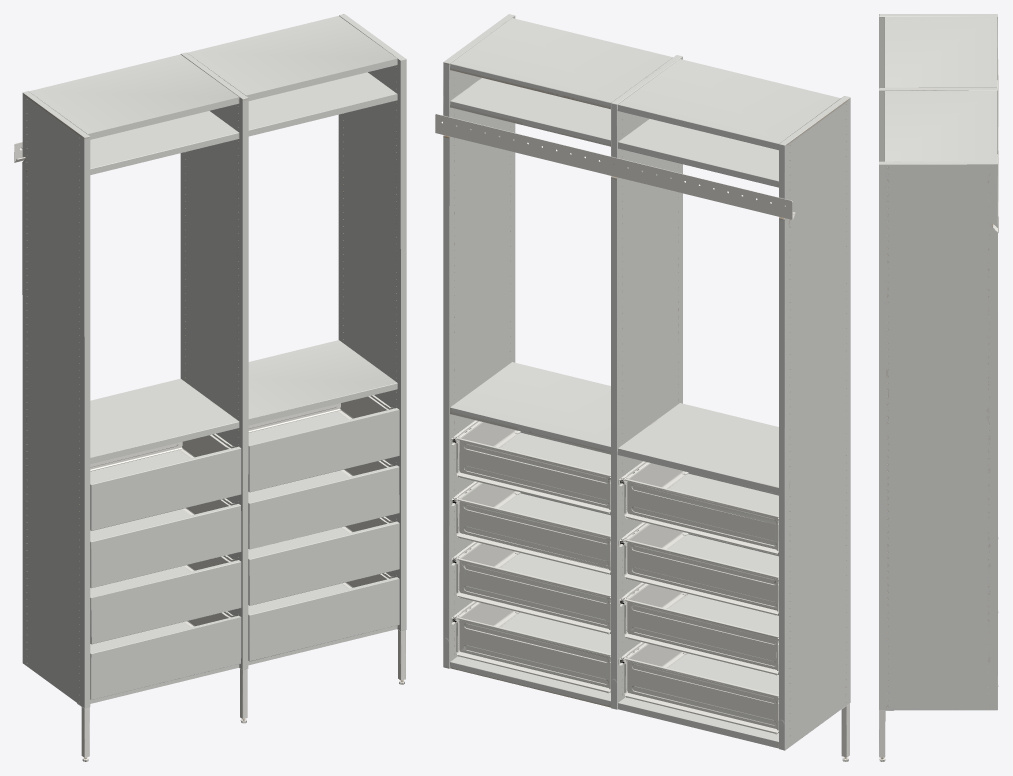
File: wardrobe-4.glb
3 views of the same model, side by side, from view 1: azimuth 30°, elevation 25°; view 2: azimuth 150°, elevation 25°; view 3: azimuth 270°, elevation 25° (orthographic). The views are drawn at different scales.
Visible parts, largest first — view 1: 50460928-AURDAL007, 50460928-AURDAL005, 50460928-AURDAL004, 30459209-AURDAL012, 30459209-AURDAL016, 30459209-AURDAL007, 30459209-AURDAL014, 00460940-AURDAL009, 00460940-AURDAL006, 00460940-AURDAL013, 00460940-AURDAL011, 00460940-AURDAL007 (+13 smaller); view 2: 50460928-AURDAL007, 50460928-AURDAL004, 50460928-AURDAL005, 30459209-AURDAL016, 30459209-AURDAL012, 20460939-AURDAL013, 20460939-AURDAL009, 20460939-AURDAL012, 20460939-AURDAL008, 20460939-AURDAL007, 20460939-AURDAL011, 20460939-AURDAL010 (+9 smaller); view 3: 50460928-AURDAL004, 30459209-AURDAL012, 30459209-AURDAL016, 50460928-AURDAL005, 50460928-AURDAL007.
Part boxes in pixels (x1=…): 50460928-AURDAL007: x1=22, y1=91, x2=90, y2=761; 50460928-AURDAL005: x1=180, y1=52, x2=248, y2=723; 50460928-AURDAL004: x1=338, y1=14, x2=406, y2=684; 30459209-AURDAL012: x1=187, y1=16, x2=397, y2=100; 30459209-AURDAL016: x1=29, y1=54, x2=239, y2=139; 30459209-AURDAL007: x1=248, y1=340, x2=397, y2=425; 30459209-AURDAL014: x1=90, y1=378, x2=239, y2=463; 00460940-AURDAL009: x1=248, y1=408, x2=399, y2=492; 00460940-AURDAL006: x1=248, y1=577, x2=399, y2=661; 00460940-AURDAL013: x1=90, y1=446, x2=241, y2=530; 00460940-AURDAL011: x1=90, y1=560, x2=241, y2=644; 00460940-AURDAL007: x1=248, y1=521, x2=399, y2=605; 50460928-AURDAL007: x1=779, y1=96, x2=850, y2=761; 50460928-AURDAL004: x1=443, y1=14, x2=515, y2=668; 50460928-AURDAL005: x1=611, y1=55, x2=682, y2=709; 30459209-AURDAL016: x1=617, y1=59, x2=840, y2=150; 30459209-AURDAL012: x1=450, y1=18, x2=672, y2=109; 20460939-AURDAL013: x1=618, y1=461, x2=778, y2=554; 20460939-AURDAL009: x1=450, y1=420, x2=610, y2=513; 20460939-AURDAL012: x1=618, y1=522, x2=778, y2=615; 20460939-AURDAL008: x1=450, y1=481, x2=610, y2=574; 20460939-AURDAL007: x1=451, y1=541, x2=610, y2=634; 20460939-AURDAL011: x1=619, y1=582, x2=778, y2=675; 20460939-AURDAL010: x1=618, y1=642, x2=778, y2=734; 50460928-AURDAL004: x1=879, y1=161, x2=998, y2=761; 30459209-AURDAL012: x1=884, y1=90, x2=997, y2=161; 30459209-AURDAL016: x1=884, y1=17, x2=997, y2=87; 50460928-AURDAL005: x1=879, y1=88, x2=998, y2=612; 50460928-AURDAL007: x1=879, y1=14, x2=998, y2=538.
Size of the model in its own units: 1.25 by 2.22 by 0.403.
Materials: 2 (2 with a texture image).
